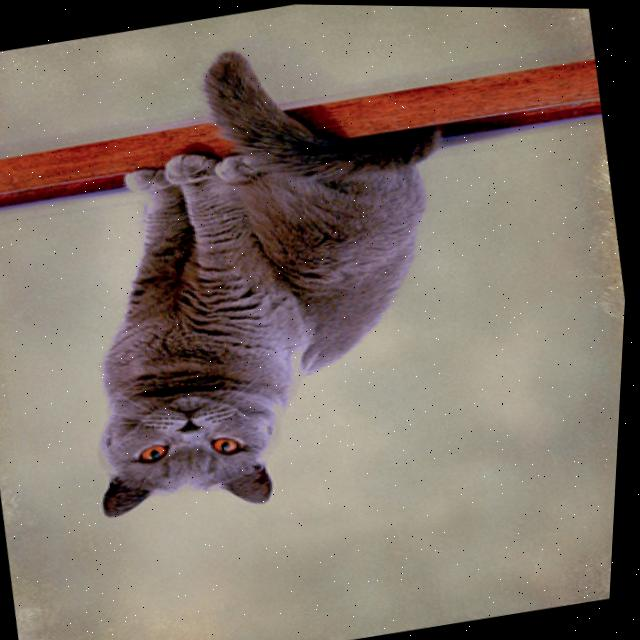British Shorthair: (22, 13, 508, 539)
